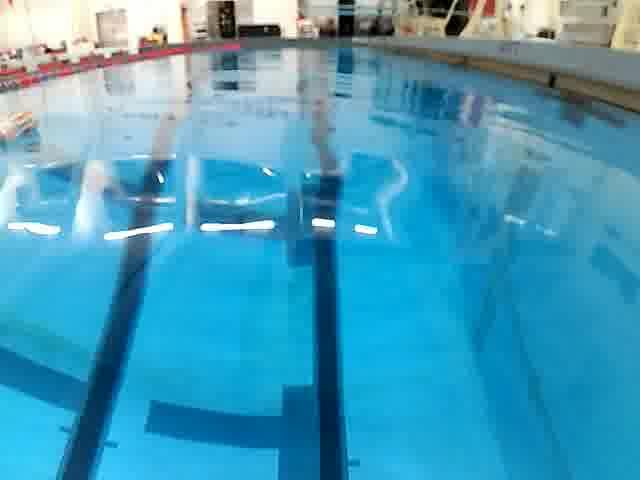Bottle: (0, 106, 42, 147)
